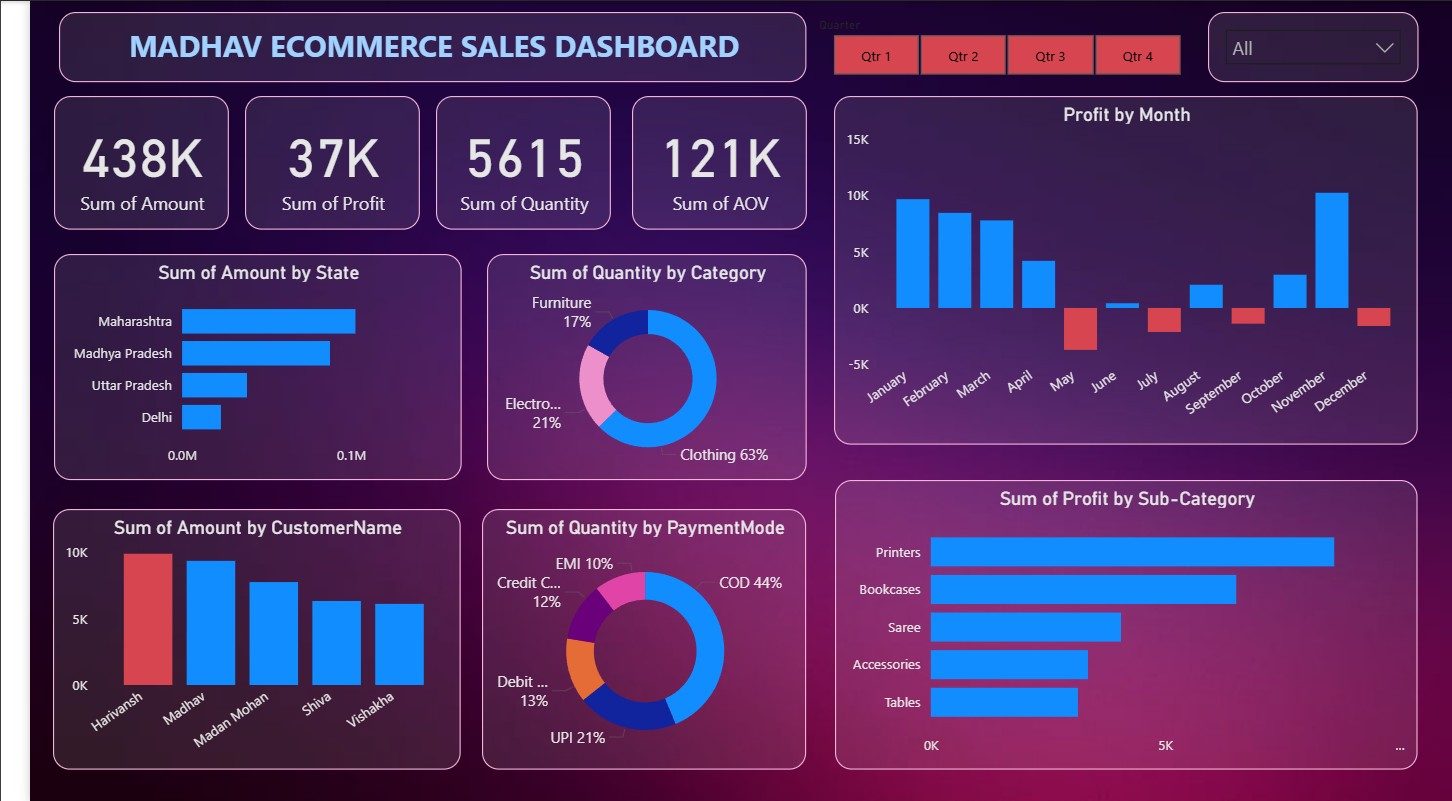

Layout of this report page (visuals, bound fields, positions):
{"tool":"powerbi","page":{"name":"Page 1","canvas":[1280,720],"ordinal":0},"visuals":[{"type":"textbox","box":[25.7,10,671.4,62.9],"z":0},{"type":"columnChart","title":"Profit by Month","fields":{"Category":["Orders.Order Date.Variation.Date Hierarchy.Month"],"Y":["Details.Profit"]},"box":[721.4,85.7,524.3,312.9],"z":1000},{"type":"barChart","fields":{"Category":["Details.Sub-Category"],"Y":["Details.Profit"]},"box":[722.9,430,522.9,260],"z":2000},{"type":"donutChart","fields":{"Category":["Details.Category"],"Y":["Details.Quantity"]},"box":[410,227.1,287.1,202.9],"z":3000},{"type":"donutChart","fields":{"Y":["Details.Quantity"],"Category":["Details.PaymentMode"]},"box":[405.4,456.3,291.4,234.3],"z":4000},{"type":"card","fields":{"Values":["Details.Amount"]},"box":[21.4,85.7,157.1,120],"z":5000},{"type":"card","fields":{"Values":["Details.Quantity"]},"box":[364.3,85.7,157.1,120],"z":6000},{"type":"card","fields":{"Values":["Details.Profit"]},"box":[192.9,85.7,157.1,120],"z":7000},{"type":"card","fields":{"Values":["Details.AOV"]},"box":[540,85.7,157.1,120],"z":8000},{"type":"barChart","fields":{"Category":["Orders.State"],"Y":["Details.Amount"]},"box":[21.4,227.1,365.7,202.9],"z":9000},{"type":"columnChart","fields":{"Category":["Orders.CustomerName"],"Y":["Details.Amount"]},"box":[21,456,366,234],"z":10000},{"type":"slicer","fields":{"Values":["Orders.Order Date.Variation.Date Hierarchy.Quarter"]},"box":[695.7,9.6,360.9,63.1],"z":11000},{"type":"slicer","fields":{"Values":["Orders.State"]},"box":[1057.1,10,188.6,62.9],"z":12000}]}

Visuals, with their boxes in screenshot pixels (x1, y1, x2, y2), scaled from the page's 1280x720 canvas onto the 1452x801 screenshot:
textbox: (left=29, top=11, right=791, bottom=81)
"Profit by Month" columnChart: (left=818, top=95, right=1413, bottom=443)
barChart - Details.Sub-Category x Details.Profit: (left=820, top=478, right=1413, bottom=768)
donutChart - Details.Category x Details.Quantity: (left=465, top=253, right=791, bottom=478)
donutChart - Details.Quantity x Details.PaymentMode: (left=460, top=508, right=790, bottom=768)
card - Details.Amount: (left=24, top=95, right=202, bottom=229)
card - Details.Quantity: (left=413, top=95, right=591, bottom=229)
card - Details.Profit: (left=219, top=95, right=397, bottom=229)
card - Details.AOV: (left=613, top=95, right=791, bottom=229)
barChart - Orders.State x Details.Amount: (left=24, top=253, right=439, bottom=478)
columnChart - Orders.CustomerName x Details.Amount: (left=24, top=507, right=439, bottom=768)
slicer - Orders.Order Date.Variation.Date Hierarchy.Quarter: (left=789, top=11, right=1199, bottom=81)
slicer - Orders.State: (left=1199, top=11, right=1413, bottom=81)
